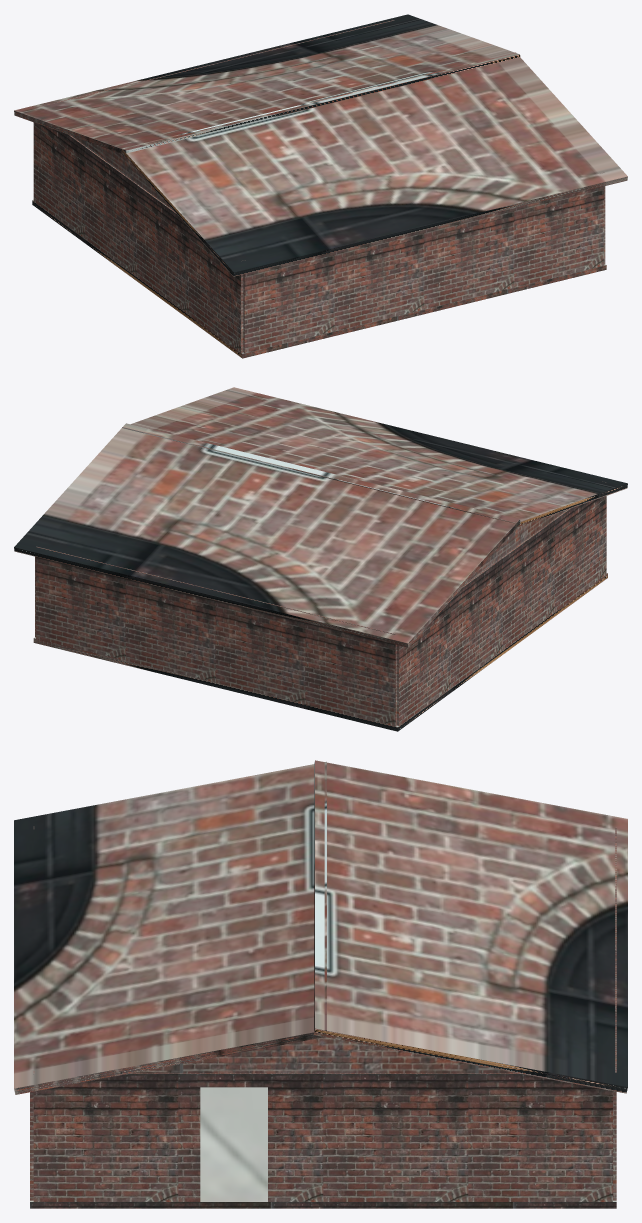
The model's file is building1.glb.
The picture shows the model from 3 angles, top to bottom: view 1: azimuth 30°, elevation 25°; view 2: azimuth 150°, elevation 25°; view 3: azimuth 270°, elevation 25°; orthographic projection. The views are drawn at different scales.
Parts seen in each view (by area): view 1: Cube.018, Cube.019, Cube.007, Cube.004, Cube.005, Cube.006, Cube.009, Cube.010, Cube.008, Cube.011, Cube.020, Cube.024; view 2: Cube.019, Cube.018, Cube.015, Cube.014, Cube.013, Cube.012, Cube.010, Cube.009, Cube.011, Cube.008, Cube.020, Cube.024; view 3: Cube.019, Cube.018, Cube.002, Cube.001, Cube.003, Cube.020, Cube.021, Cube.022.
Boxes of the visible parts, x1,y1,x2,y2 form: Cube.018: [121, 52, 627, 276]; Cube.019: [14, 14, 520, 153]; Cube.007: [243, 252, 334, 353]; Cube.004: [514, 186, 604, 287]; Cube.005: [424, 208, 514, 309]; Cube.006: [334, 230, 424, 331]; Cube.009: [85, 147, 137, 276]; Cube.010: [137, 185, 189, 314]; Cube.008: [33, 122, 85, 238]; Cube.011: [189, 228, 245, 352]; Cube.020: [32, 199, 606, 358]; Cube.024: [72, 136, 173, 210]; Cube.019: [14, 423, 520, 647]; Cube.018: [122, 387, 627, 527]; Cube.015: [305, 612, 396, 726]; Cube.014: [216, 590, 305, 704]; Cube.013: [126, 568, 215, 682]; Cube.012: [36, 546, 125, 660]; Cube.010: [502, 520, 554, 649]; Cube.009: [451, 558, 502, 687]; Cube.011: [554, 481, 606, 611]; Cube.008: [397, 601, 450, 725]; Cube.020: [33, 573, 607, 731]; Cube.024: [466, 510, 566, 583]; Cube.019: [313, 760, 627, 1093]; Cube.018: [14, 761, 326, 1094]; Cube.002: [323, 1073, 468, 1201]; Cube.001: [33, 1071, 178, 1201]; Cube.003: [468, 1073, 612, 1201]; Cube.020: [30, 1087, 616, 1208]; Cube.021: [178, 1073, 323, 1201]; Cube.022: [131, 1037, 518, 1073].
Size of the model in its own units: 10.96 by 3.63 by 10.6.
Materials: 2 (1 with a texture image).
